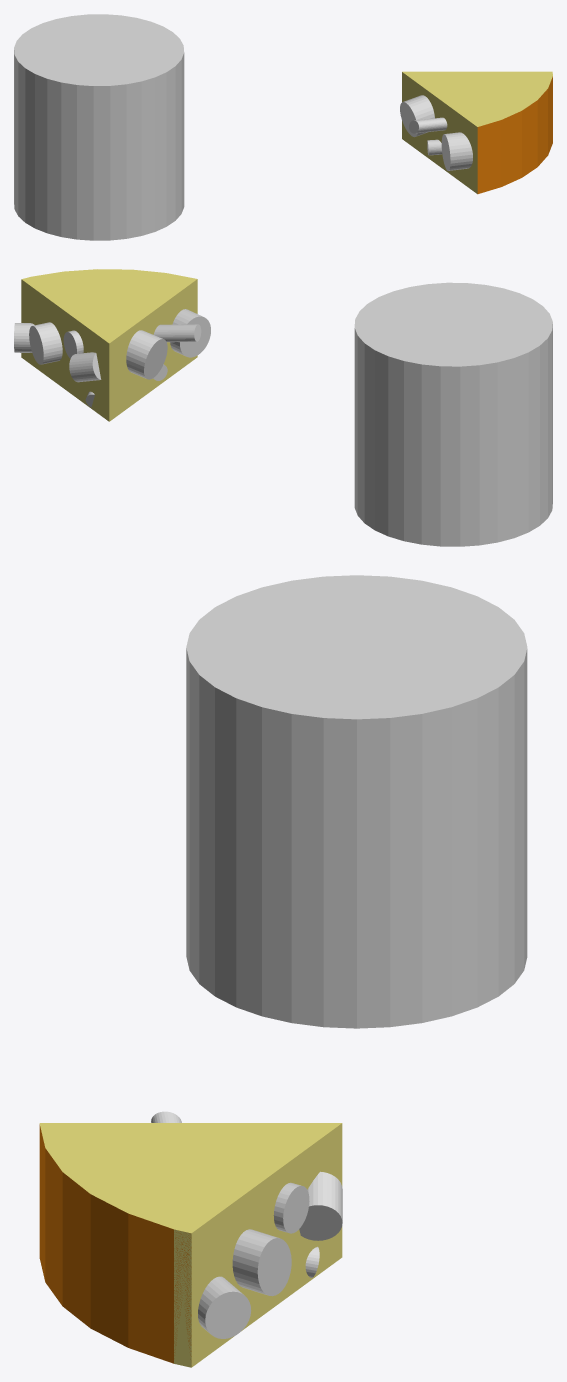
Rendered from BaseCheeseItem.fbx.
3 views of the same model, one above another, from view 1: azimuth 30°, elevation 25°; view 2: azimuth 150°, elevation 25°; view 3: azimuth 270°, elevation 25° (orthographic). The views are drawn at different scales.
Visible parts, largest first — view 1: Cylinder, Cylinder.001, Newholes.013, Newholes, Newholes.015; view 2: Cylinder, Cylinder.001, Newholes, Newholes.011, Newholes.013, Newholes.018, Newholes.015, Newholes.019, Newholes.012; view 3: Cylinder, Cylinder.001, Newholes.011, Newholes.019, Newholes.018, Newholes.012.
Boxes of the visible parts, left/top/right/bottom form: Cylinder: left=14, top=14, right=184, bottom=240; Cylinder.001: left=402, top=71, right=552, bottom=194; Newholes.013: left=441, top=132, right=472, bottom=170; Newholes: left=400, top=95, right=434, bottom=137; Newholes.015: left=409, top=117, right=447, bottom=133; Cylinder: left=354, top=282, right=552, bottom=546; Cylinder.001: left=21, top=269, right=197, bottom=421; Newholes: left=126, top=330, right=167, bottom=379; Newholes.011: left=29, top=322, right=62, bottom=364; Newholes.013: left=170, top=309, right=210, bottom=357; Newholes.018: left=69, top=352, right=101, bottom=382; Newholes.015: left=153, top=324, right=201, bottom=342; Newholes.019: left=14, top=323, right=34, bottom=352; Newholes.012: left=63, top=330, right=83, bottom=358; Cylinder: left=186, top=575, right=527, bottom=1028; Cylinder.001: left=39, top=1123, right=342, bottom=1367; Newholes.011: left=232, top=1229, right=291, bottom=1296; Newholes.019: left=198, top=1276, right=251, bottom=1338; Newholes.018: left=299, top=1171, right=342, bottom=1240; Newholes.012: left=273, top=1182, right=309, bottom=1233.
Bounding box in the file's own units: 660 × 206 × 286.
